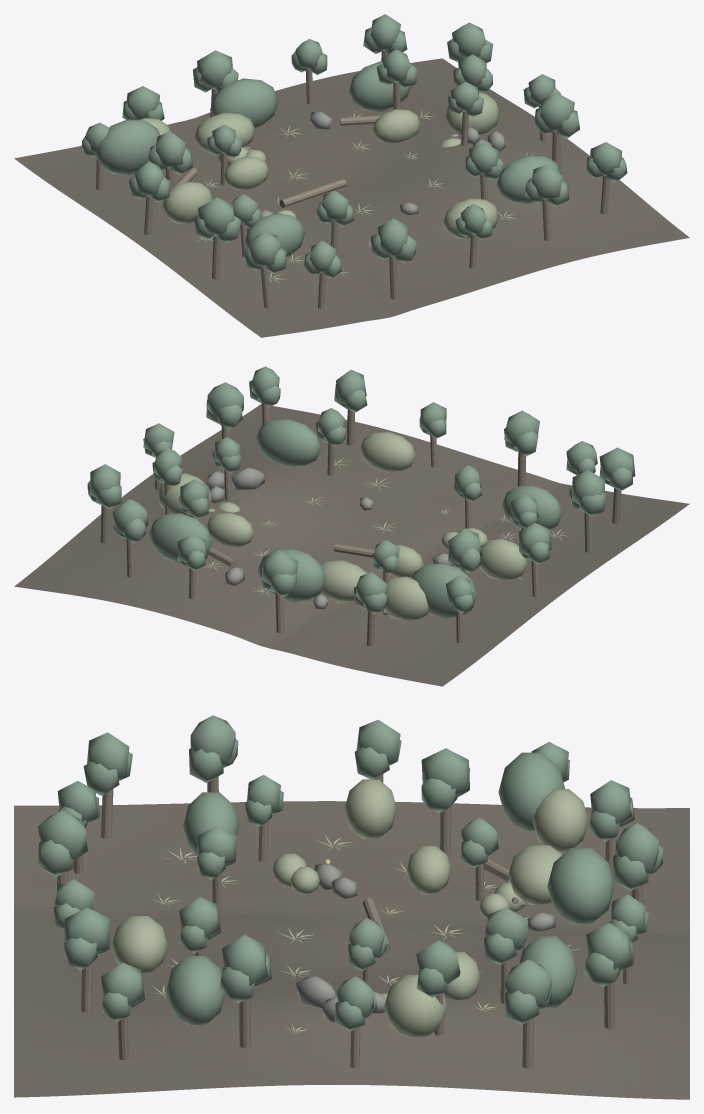
Rendered from veilwild_forest_environment.glb.
3 renders of one model, top to bottom at view 1: azimuth 30°, elevation 25°; view 2: azimuth 150°, elevation 25°; view 3: azimuth 270°, elevation 25°, orthographic. The views are drawn at different scales.
Visible parts, largest first — view 1: VW_Terrain, VW_FoliageMass_NW_A, VW_FoliageMass_N_B, VW_FoliageMass_NE_A, VW_FoliageMass_SE_A, VW_FoliageMass_W_A, VW_FoliageMass_SW_A, VW_FoliageMass_MID_E, VW_FoliageMass_N_A, VW_FoliageMass_MID_W, VW_FoliageMass_E_A, VW_Tree_17_Crown_1 (+24 smaller); view 2: VW_Terrain, VW_FoliageMass_SE_A, VW_FoliageMass_NW_A, VW_FoliageMass_NE_A, VW_FoliageMass_S_A, VW_FoliageMass_NW_B, VW_FoliageMass_W_A, VW_FoliageMass_N_B, VW_FoliageMass_N_A, VW_FoliageMass_SW_A, VW_FoliageMass_MID_E, VW_Tree_17_Crown_1 (+22 smaller); view 3: VW_Terrain, VW_FoliageMass_N_B, VW_FoliageMass_NW_A, VW_FoliageMass_SE_A, VW_FoliageMass_E_A, VW_FoliageMass_NW_B, VW_FoliageMass_W_A, VW_FoliageMass_S_A, VW_FoliageMass_N_A, VW_FoliageMass_NE_A, VW_FoliageMass_SW_A, VW_FoliageMass_MID_W (+45 smaller).
Part boxes in pixels (x1=…): VW_Terrain: x1=14, y1=58, x2=689, y2=337; VW_FoliageMass_NW_A: x1=94, y1=119, x2=160, y2=175; VW_FoliageMass_N_B: x1=210, y1=78, x2=278, y2=128; VW_FoliageMass_NE_A: x1=349, y1=61, x2=410, y2=111; VW_FoliageMass_SE_A: x1=496, y1=155, x2=561, y2=203; VW_FoliageMass_W_A: x1=162, y1=181, x2=213, y2=224; VW_FoliageMass_SW_A: x1=244, y1=213, x2=305, y2=257; VW_FoliageMass_MID_E: x1=373, y1=109, x2=420, y2=143; VW_FoliageMass_N_A: x1=194, y1=112, x2=255, y2=153; VW_FoliageMass_MID_W: x1=223, y1=156, x2=269, y2=190; VW_FoliageMass_E_A: x1=445, y1=93, x2=499, y2=134; VW_Tree_17_Crown_1: x1=197, y1=50, x2=232, y2=89; VW_Terrain: x1=14, y1=404, x2=689, y2=686; VW_FoliageMass_SE_A: x1=256, y1=419, x2=321, y2=466; VW_FoliageMass_NW_A: x1=412, y1=563, x2=477, y2=618; VW_FoliageMass_NE_A: x1=149, y1=513, x2=211, y2=563; VW_FoliageMass_S_A: x1=360, y1=431, x2=415, y2=472; VW_FoliageMass_NW_B: x1=383, y1=576, x2=428, y2=621; VW_FoliageMass_W_A: x1=479, y1=539, x2=527, y2=581; VW_FoliageMass_N_B: x1=257, y1=548, x2=326, y2=602; VW_FoliageMass_N_A: x1=320, y1=560, x2=367, y2=602; VW_FoliageMass_SW_A: x1=502, y1=485, x2=562, y2=529; VW_FoliageMass_MID_E: x1=206, y1=512, x2=254, y2=546; VW_Tree_17_Crown_1: x1=261, y1=550, x2=297, y2=584; VW_Terrain: x1=14, y1=801, x2=689, y2=1099; VW_FoliageMass_N_B: x1=547, y1=848, x2=614, y2=924; VW_FoliageMass_NW_A: x1=498, y1=752, x2=564, y2=831; VW_FoliageMass_SE_A: x1=166, y1=956, x2=225, y2=1025; VW_FoliageMass_E_A: x1=384, y1=975, x2=447, y2=1037; VW_FoliageMass_NW_B: x1=532, y1=789, x2=588, y2=852; VW_FoliageMass_W_A: x1=344, y1=779, x2=396, y2=838; VW_FoliageMass_S_A: x1=111, y1=916, x2=167, y2=974; VW_FoliageMass_N_A: x1=508, y1=845, x2=562, y2=904; VW_FoliageMass_NE_A: x1=519, y1=936, x2=577, y2=1007; VW_FoliageMass_SW_A: x1=183, y1=792, x2=239, y2=855; VW_FoliageMass_MID_W: x1=406, y1=846, x2=451, y2=894.
Bounding box in the file's own units: 36 × 8.19 × 36.
